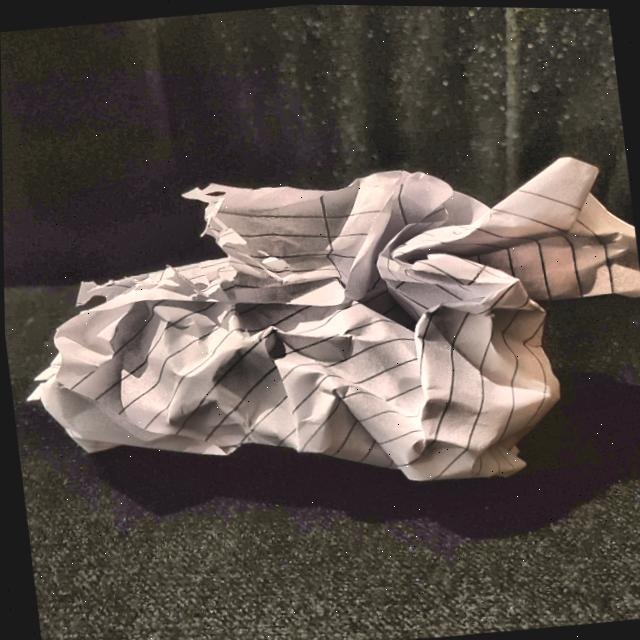paper: (4, 136, 640, 515)
